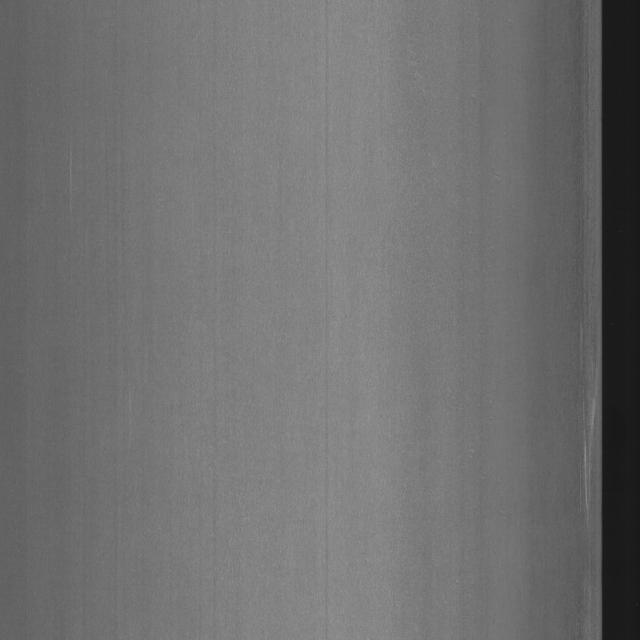inclusion: (553, 327, 597, 549)
